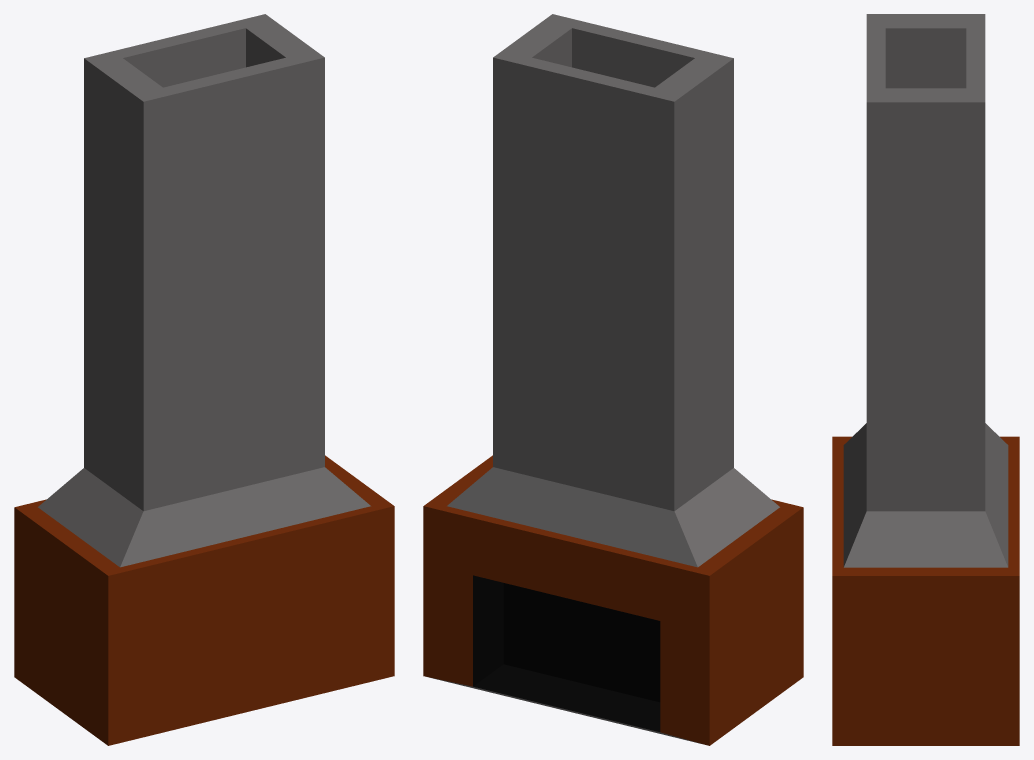
File: chimenea.fbx
3 views of the same model, side by side, from view 1: azimuth 30°, elevation 25°; view 2: azimuth 150°, elevation 25°; view 3: azimuth 270°, elevation 25° (orthographic).
Visible parts, largest first — view 1: Cube.003; view 2: Cube.003; view 3: Cube.003.
Part boxes in pixels (x1=…): Cube.003: x1=14, y1=14, x2=394, y2=745; Cube.003: x1=423, y1=14, x2=803, y2=745; Cube.003: x1=832, y1=14, x2=1019, y2=745.
Size of the model in its own units: 2.47 by 5.09 by 1.4.
